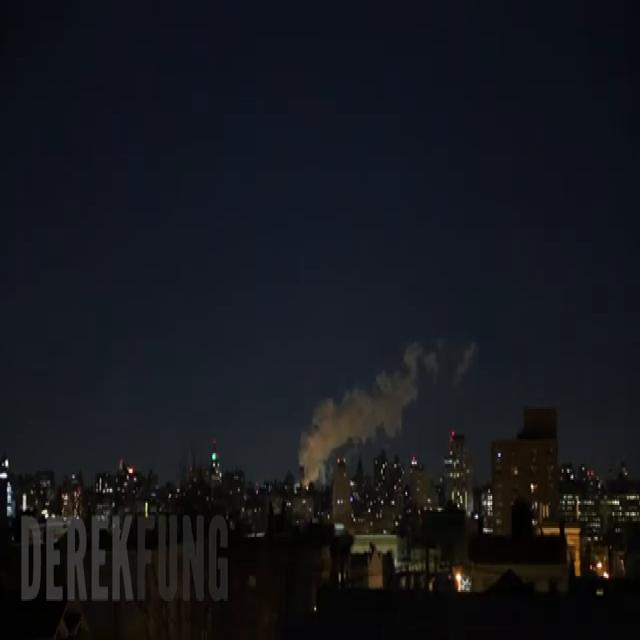smoke: (298, 340, 445, 480)
